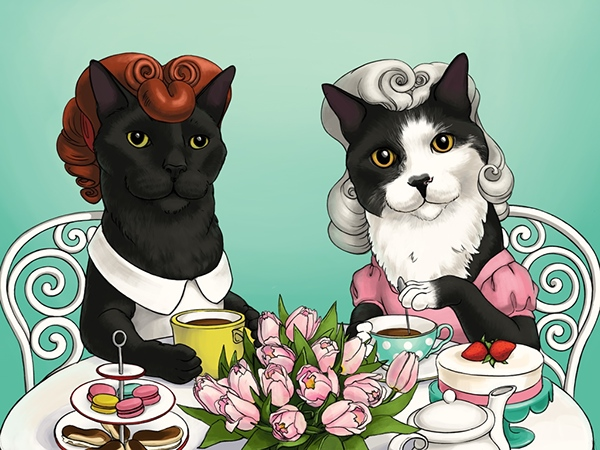cat: (317, 41, 548, 275), (101, 39, 283, 283)
